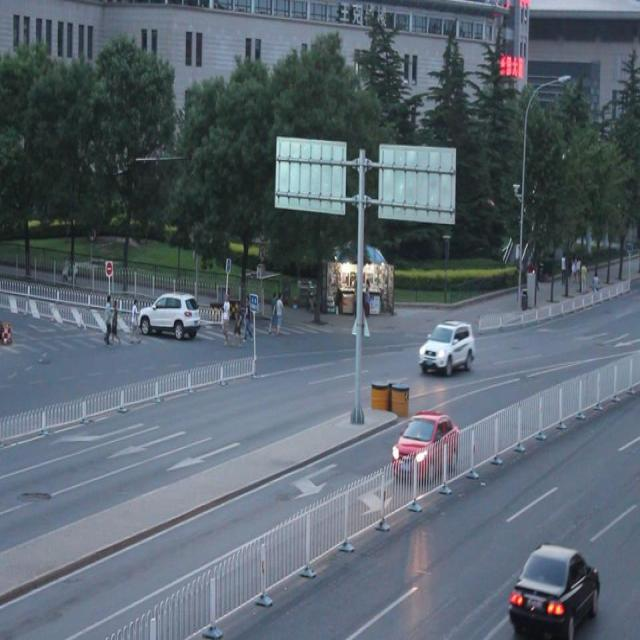car: (509, 539, 599, 634), (392, 413, 459, 476), (139, 290, 201, 338), (419, 318, 473, 373)
